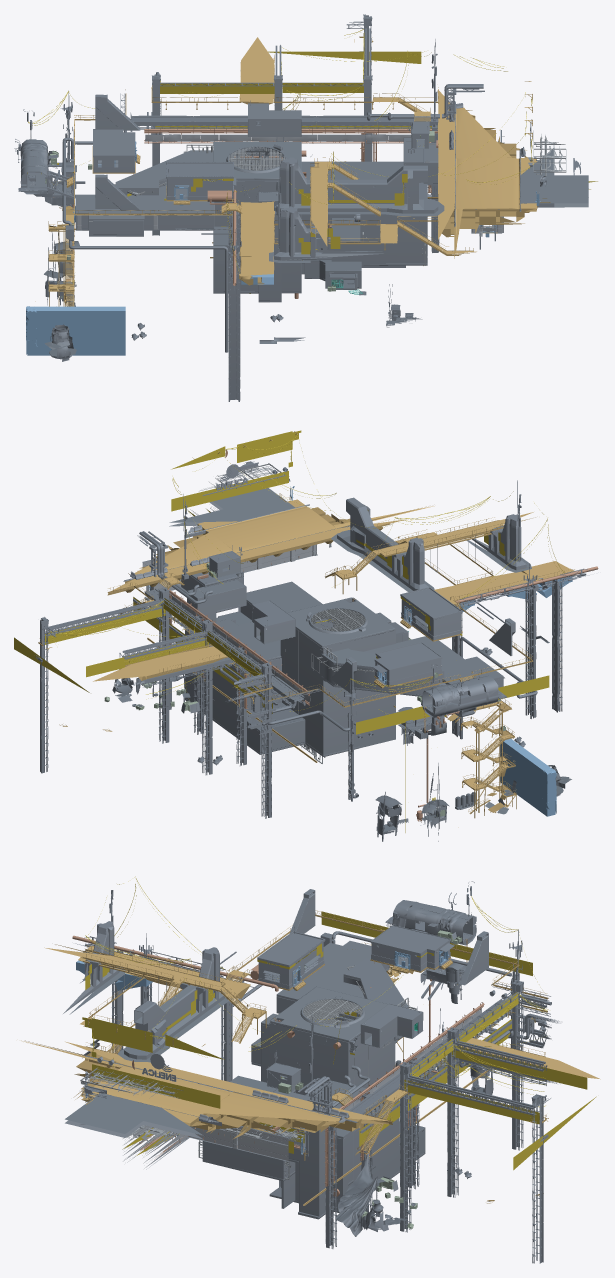
Rendered from caz.glb.
3 renders of one model, top to bottom at view 1: azimuth 30°, elevation 25°; view 2: azimuth 150°, elevation 25°; view 3: azimuth 270°, elevation 25°, orthographic. The views are drawn at different scales.
Parts seen in each view (by area): view 1: shell_walls, walkways, roof_ceiling, cables, doors, machinery; view 2: shell_walls, walkways, roof_ceiling, cables, doors, machinery; view 3: shell_walls, roof_ceiling, walkways, cables, machinery, doors.
Part boxes in pixels (bbox=[...]): shell_walls: bbox=[18, 27, 588, 401]; walkways: bbox=[35, 32, 550, 306]; roof_ceiling: bbox=[14, 14, 580, 265]; cables: bbox=[27, 29, 597, 293]; doors: bbox=[26, 141, 540, 355]; machinery: bbox=[45, 128, 438, 298]; shell_walls: bbox=[35, 488, 591, 841]; walkways: bbox=[38, 431, 575, 827]; roof_ceiling: bbox=[40, 461, 529, 763]; cables: bbox=[14, 430, 564, 832]; doors: bbox=[149, 486, 572, 816]; machinery: bbox=[104, 449, 598, 822]; shell_walls: bbox=[63, 909, 560, 1263]; roof_ceiling: bbox=[80, 881, 551, 1179]; walkways: bbox=[21, 910, 600, 1205]; cables: bbox=[82, 876, 596, 1170]; machinery: bbox=[72, 930, 484, 1228]; doors: bbox=[76, 951, 449, 1154].
Bounding box in the file's own units: 134 × 65.86 × 135.
